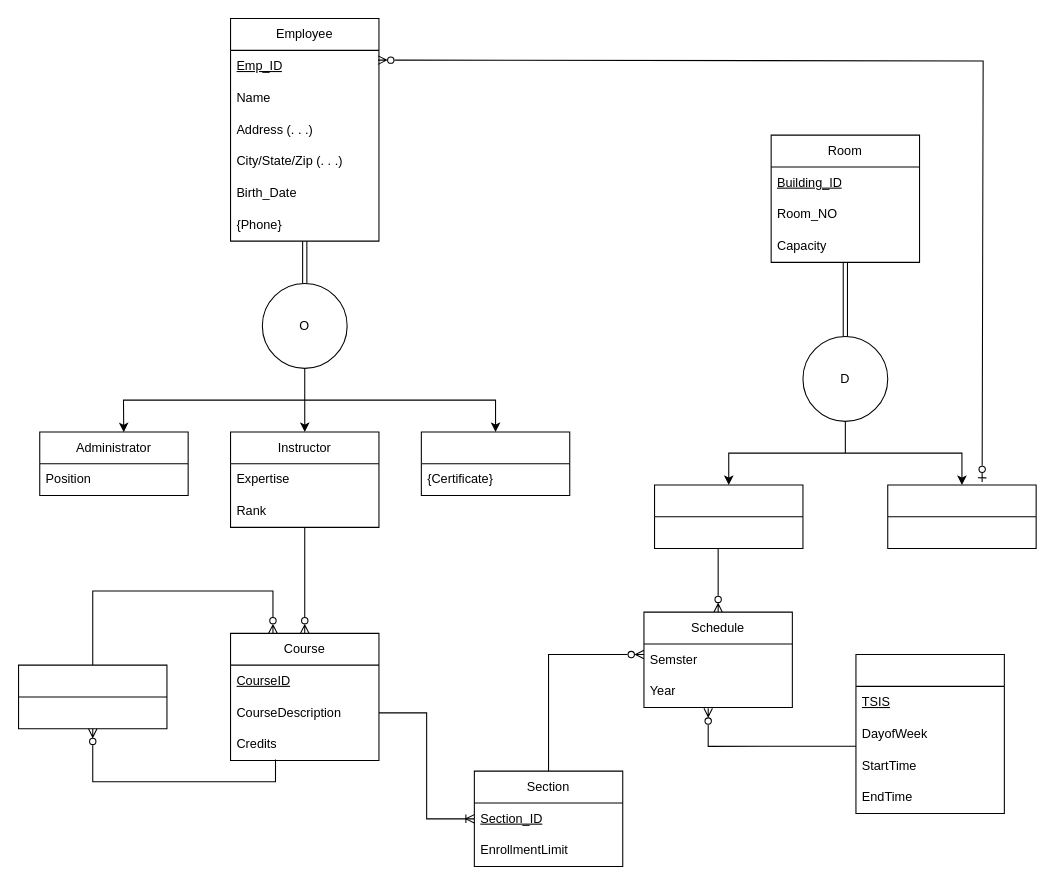
The diagram is 1055 pixels wide and 885 high, and some of its shapes have lost their labels. Here are the shapes that lost their labels. From the top down, the box of each, then its label:
(420, 431, 570, 496): Staff
(653, 484, 803, 549): Classroom
(887, 484, 1036, 549): Office
(17, 664, 167, 729): Prerequisite
(855, 653, 1004, 814): Timeslot
